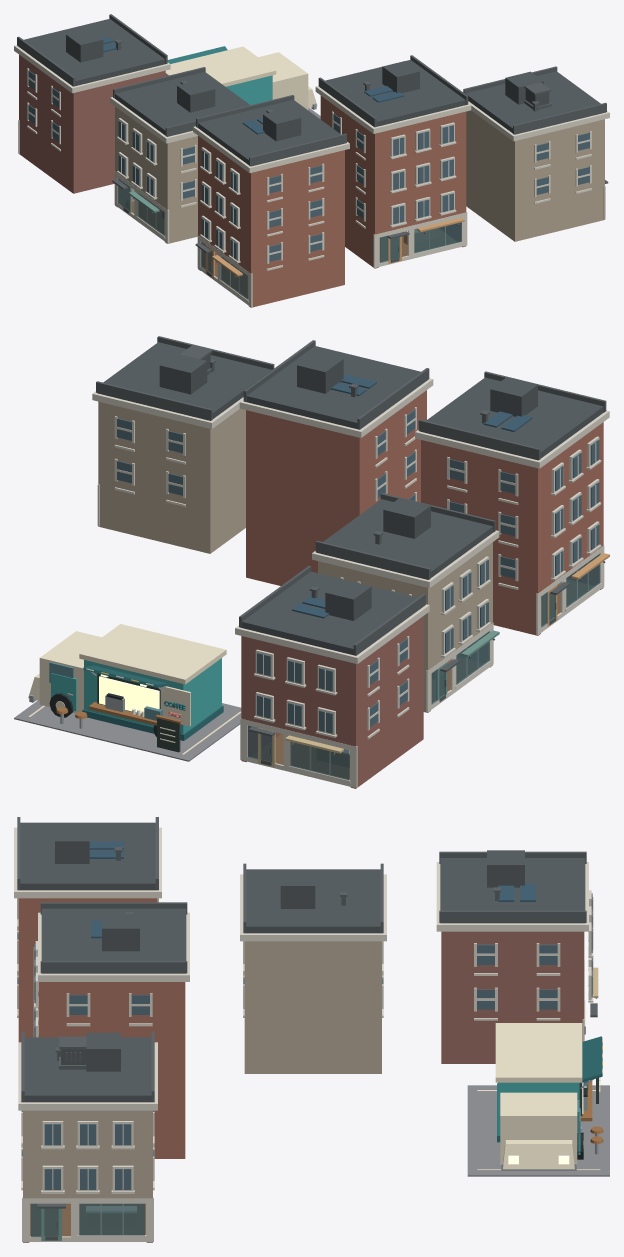
Rendered from downtown-block-p1-p0.glb.
The picture shows the model from 3 angles, top to bottom: view 1: azimuth 30°, elevation 25°; view 2: azimuth 150°, elevation 25°; view 3: azimuth 270°, elevation 25°; orthographic projection. The views are drawn at different scales.
Visible parts, largest first — view 1: urban_townhouse_00.001, urban_townhouse_00.007, urban_townhouse_01.006, urban_townhouse_08.001, urban_townhouse_11.001, coffee_roof.001, coffee_cab.001, coffee_box.001; view 2: urban_townhouse_00.001, urban_townhouse_08.001, urban_townhouse_00.007, urban_townhouse_01.006, urban_townhouse_11.001, coffee_roof.001, coffee_pull_off.001, coffee_box.001, coffee_cab.001, coffee_interior_glow.001, coffee_logo_panel.001, coffee_lower_band.001 (+1 smaller); view 3: urban_townhouse_11.001, urban_townhouse_08.001, urban_townhouse_01.006, urban_townhouse_00.007, urban_townhouse_00.001, coffee_pull_off.001, coffee_roof.001, coffee_cab.001, coffee_hood.001, coffee_box.001, coffee_hatch.001.
Part boxes in pixels (left/top/right/bottom): urban_townhouse_00.001: left=193, top=95, right=349, bottom=307; urban_townhouse_00.007: left=315, top=55, right=471, bottom=268; urban_townhouse_01.006: left=463, top=66, right=609, bottom=241; urban_townhouse_08.001: left=14, top=14, right=170, bottom=193; urban_townhouse_11.001: left=110, top=67, right=250, bottom=243; coffee_roof.001: left=165, top=46, right=276, bottom=86; coffee_cab.001: left=258, top=52, right=308, bottom=109; coffee_box.001: left=226, top=75, right=272, bottom=104; urban_townhouse_00.001: left=415, top=371, right=609, bottom=635; urban_townhouse_08.001: left=235, top=566, right=429, bottom=788; urban_townhouse_00.007: left=239, top=340, right=433, bottom=585; urban_townhouse_01.006: left=92, top=336, right=274, bottom=553; urban_townhouse_11.001: left=312, top=493, right=499, bottom=712; coffee_roof.001: left=79, top=624, right=226, bottom=684; coffee_pull_off.001: left=14, top=700, right=241, bottom=761; coffee_box.001: left=84, top=658, right=221, bottom=734; coffee_cab.001: left=39, top=631, right=101, bottom=713; coffee_interior_glow.001: left=99, top=676, right=159, bottom=713; coffee_logo_panel.001: left=160, top=686, right=190, bottom=726; coffee_lower_band.001: left=82, top=705, right=223, bottom=740; urban_townhouse_11.001: left=240, top=863, right=386, bottom=1073; urban_townhouse_08.001: left=436, top=850, right=598, bottom=1063; urban_townhouse_01.006: left=18, top=1031, right=157, bottom=1242; urban_townhouse_00.007: left=33, top=902, right=189, bottom=1158; urban_townhouse_00.001: left=14, top=817, right=161, bottom=1042; coffee_pull_off.001: left=467, top=1085, right=609, bottom=1176; coffee_roof.001: left=495, top=1023, right=582, bottom=1082; coffee_cab.001: left=500, top=1092, right=577, bottom=1165; coffee_hood.001: left=503, top=1140, right=574, bottom=1169; coffee_box.001: left=498, top=1082, right=579, bottom=1135; coffee_hatch.001: left=580, top=1036, right=602, bottom=1083.
Bounding box in the file's own units: 33.49 × 13.81 × 34.37.
